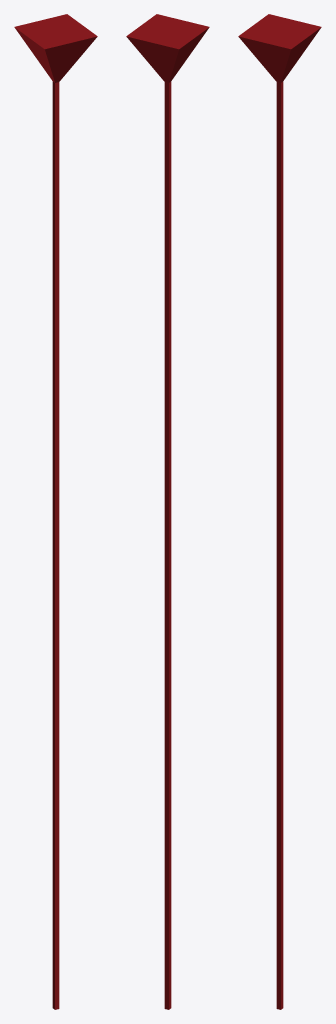
File: pointer.glb
3 views of the same model, side by side, from view 1: azimuth 30°, elevation 25°; view 2: azimuth 150°, elevation 25°; view 3: azimuth 330°, elevation 25° (orthographic).
Parts seen in each view (by area): view 1: pointer; view 2: pointer; view 3: pointer.
Boxes of the visible parts, <box> form: pointer: <box>14,14,97,1009</box>; pointer: <box>126,14,209,1009</box>; pointer: <box>238,14,321,1009</box>.
Bounding box in the file's own units: 2.54 × 44.7 × 2.54.
